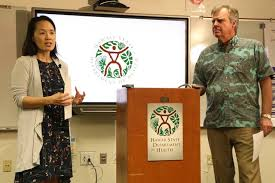Caution: (7, 4, 272, 181)
